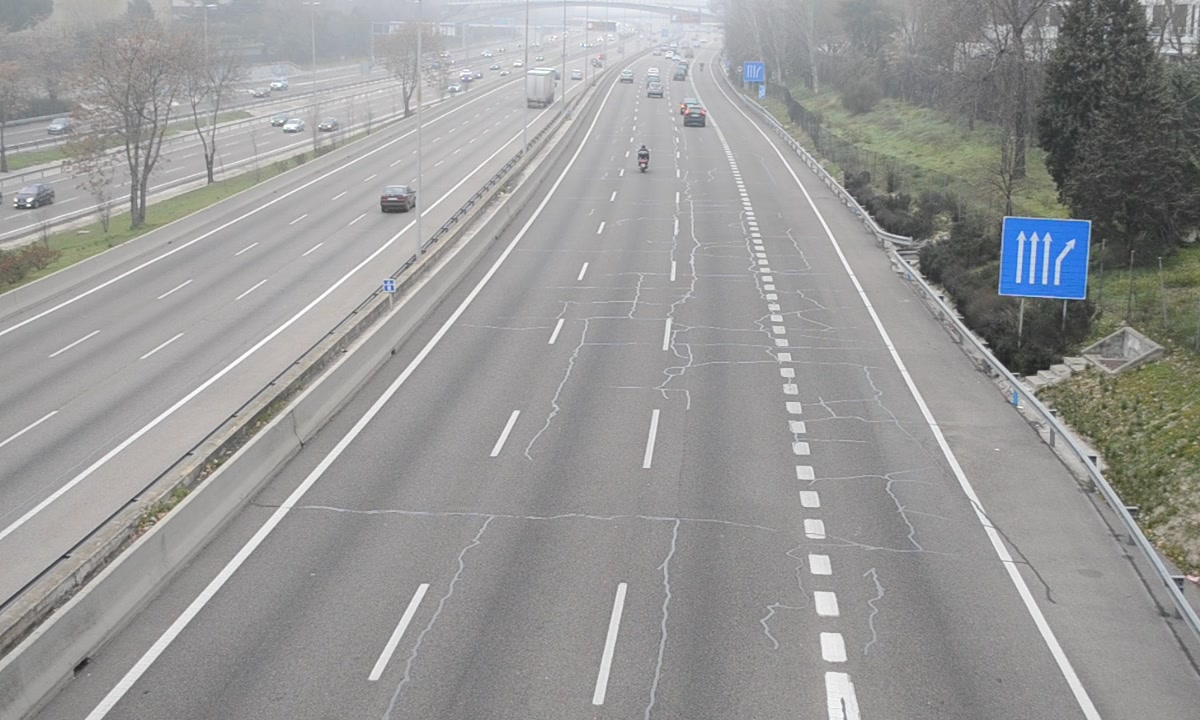car: (682, 104, 709, 126)
motorcycle: (638, 145, 650, 178)
